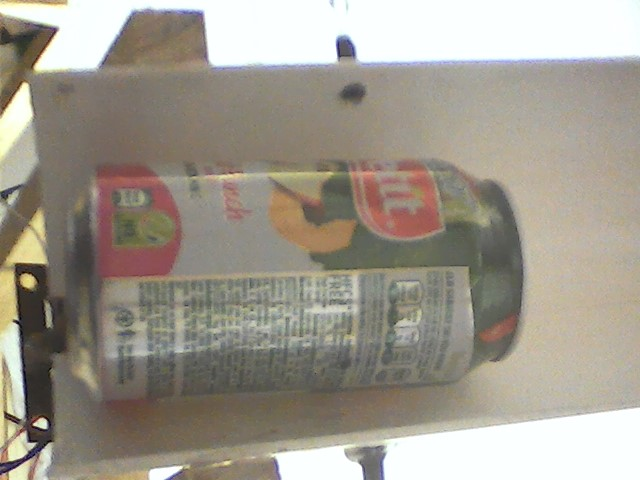lata: (66, 153, 537, 417)
